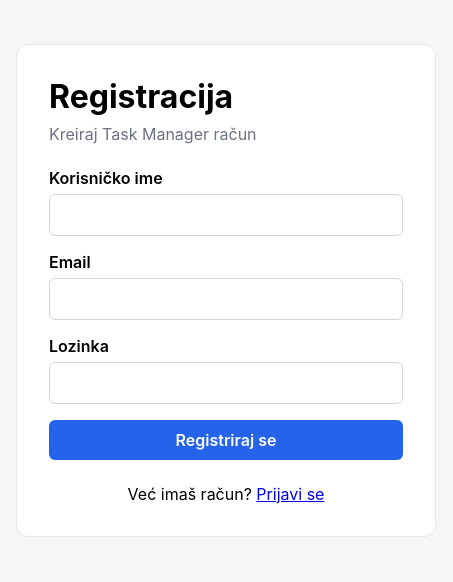
Test: RegisterPage › shows an error when registration fails
In the field labelled "Korisničko ime": (226, 214) [49,194,403,236], type "jelena"
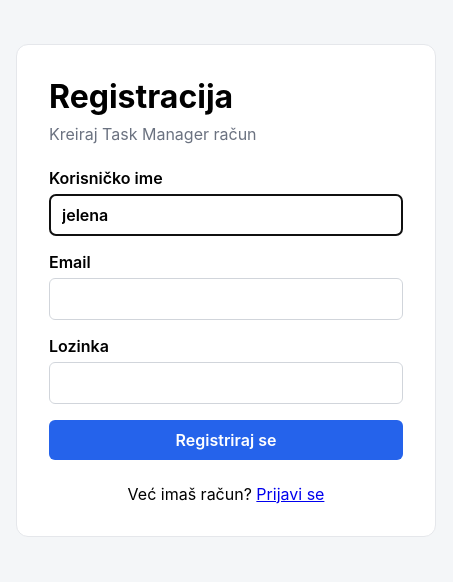
In the field labelled "Email": (226, 298) [49,278,403,320], type "jelena@example.com"
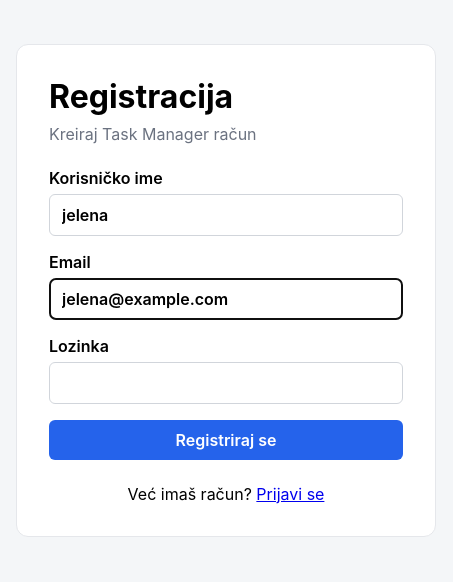
In the password field labelled "Lozinka": (226, 382) [49,362,403,404], type "password123"
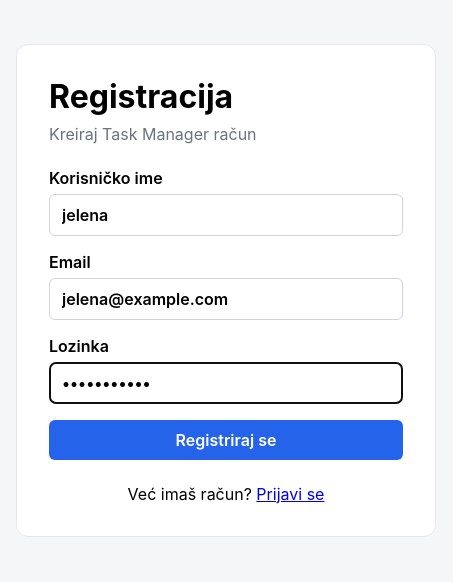
Click the button "Registriraj se": click(226, 440) [49,420,403,460]
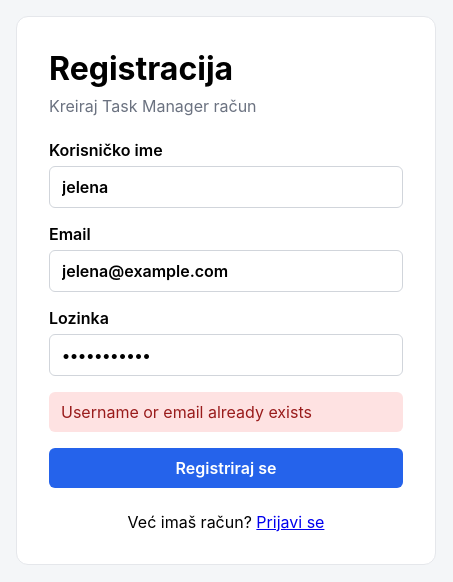
expect the text "Username or email already exists" is shown: met, box [49,392,403,432]
